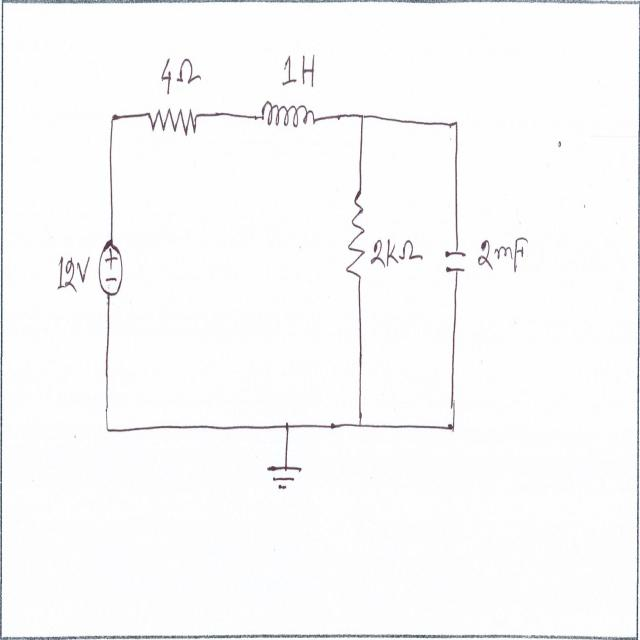capacitor: (441, 243, 469, 278)
ground: (266, 461, 310, 496)
inductor: (262, 93, 318, 138)
resistor: (146, 101, 198, 143), (345, 188, 366, 284)
voltage_source: (96, 240, 125, 304)
